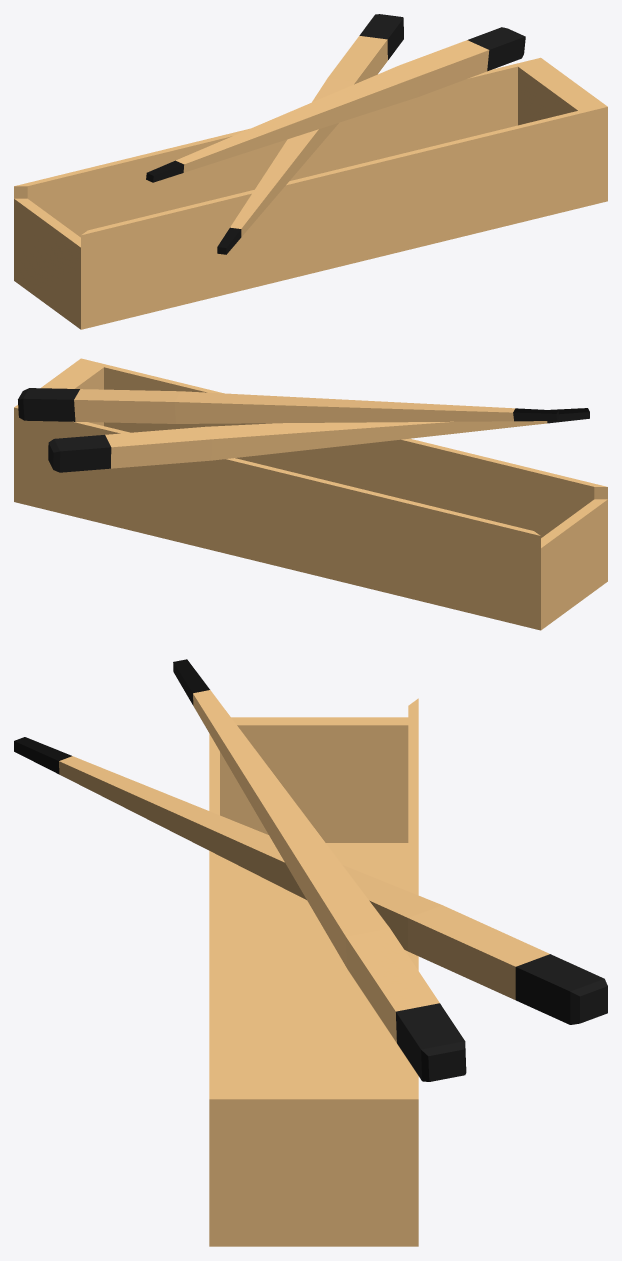
The model's file is chopstick--w-box-by-jarlan-perez-3MiYaUjS8DF.glb.
3 renders of one model, top to bottom at view 1: azimuth 30°, elevation 25°; view 2: azimuth 150°, elevation 25°; view 3: azimuth 270°, elevation 25°, orthographic. The views are drawn at different scales.
Parts seen in each view (by area): view 1: Node; view 2: Node; view 3: Node.
Boxes of the visible parts, box(x1,y1,x2,y2) form: Node: box(14, 14, 607, 329); Node: box(14, 358, 607, 630); Node: box(14, 659, 607, 1246).
Size of the model in its own units: 4.9 by 1.32 by 3.07.
